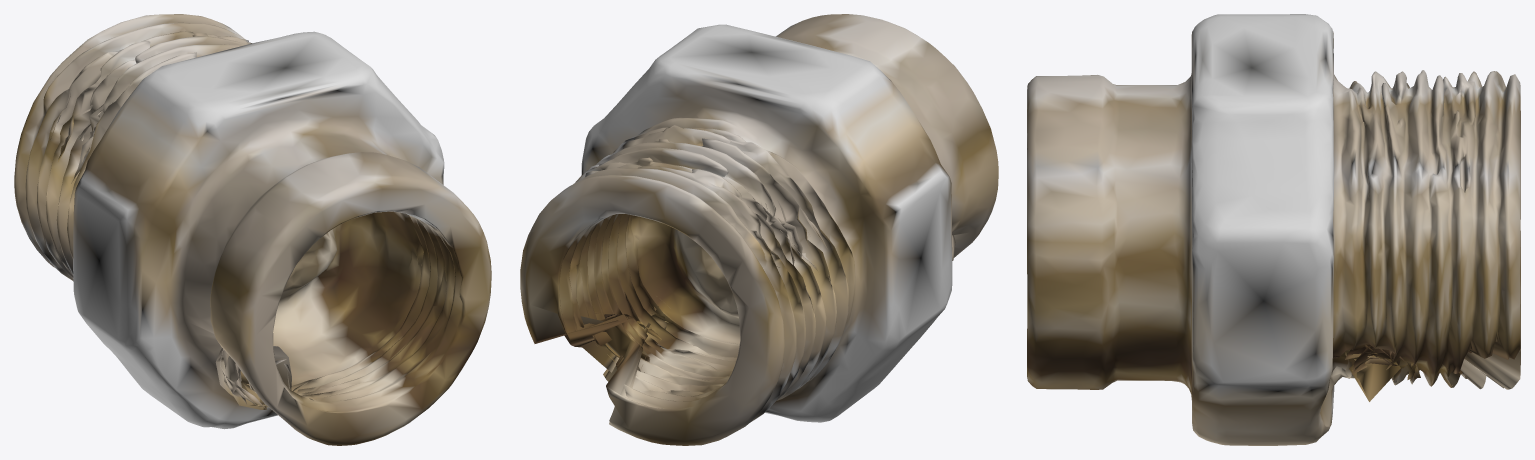
File: seat_defect.glb
3 renders of one model, left to right at view 1: azimuth 30°, elevation 25°; view 2: azimuth 150°, elevation 25°; view 3: azimuth 270°, elevation 25°, orthographic. The views are drawn at different scales.
Parts seen in each view (by area): view 1: tmpi_fearbm.ply; view 2: tmpi_fearbm.ply; view 3: tmpi_fearbm.ply.
Part boxes in pixels (x1=…): tmpi_fearbm.ply: x1=14, y1=14, x2=491, y2=445; tmpi_fearbm.ply: x1=520, y1=14, x2=998, y2=445; tmpi_fearbm.ply: x1=1027, y1=14, x2=1520, y2=445.
Size of the model in its own units: 0.7917 by 0.7973 by 1.
